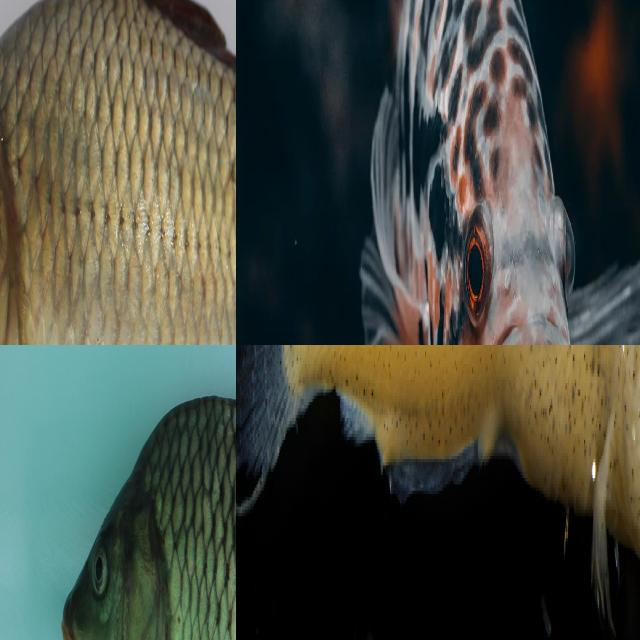fish: (236, 345, 640, 579), (0, 0, 236, 345), (59, 345, 236, 640)
